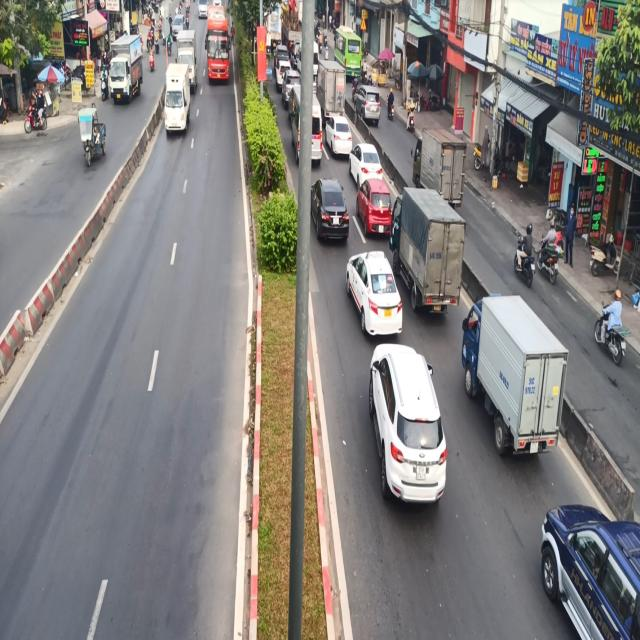bus: (207, 8, 232, 98)
car: (370, 337, 450, 511), (343, 246, 408, 343)
truck: (462, 286, 568, 460), (162, 65, 194, 138)
